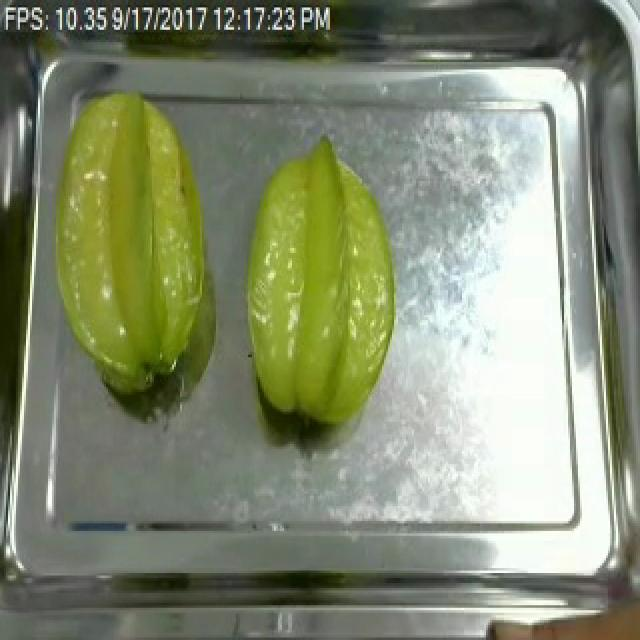fruit: (40, 79, 220, 407), (230, 132, 406, 439)
